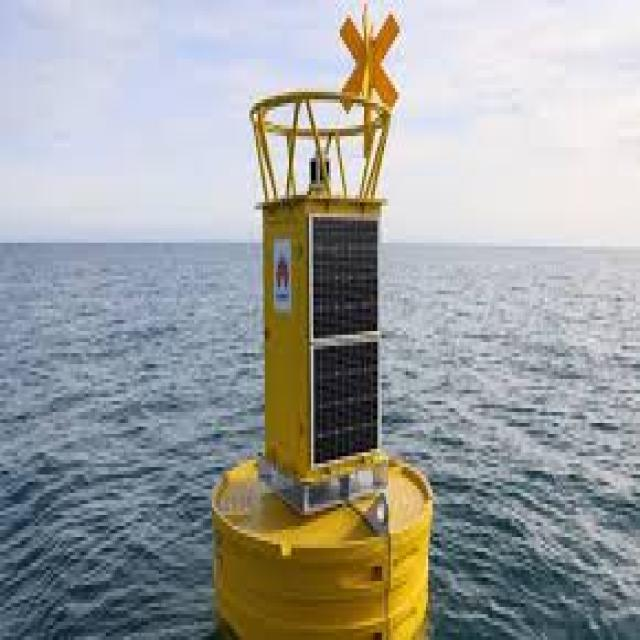2.5 sepcial mark: (211, 1, 445, 640)
